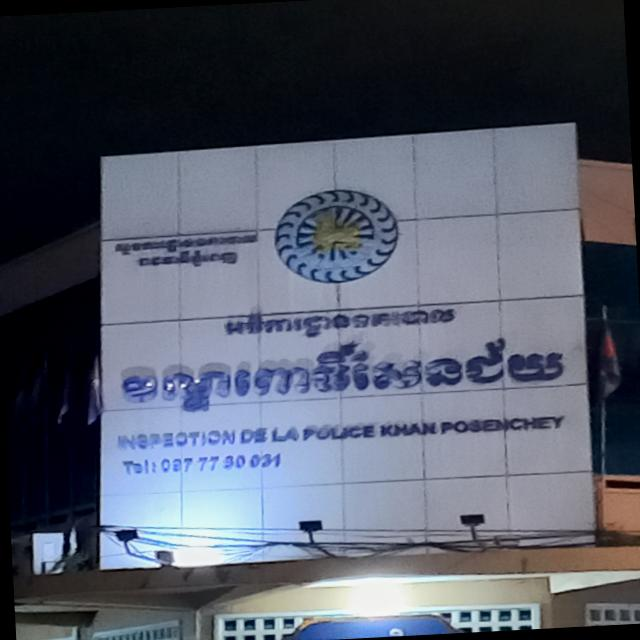413: (156, 447, 290, 474)
Yolov11kh: (117, 330, 579, 418), (219, 297, 461, 345), (110, 230, 265, 273)
